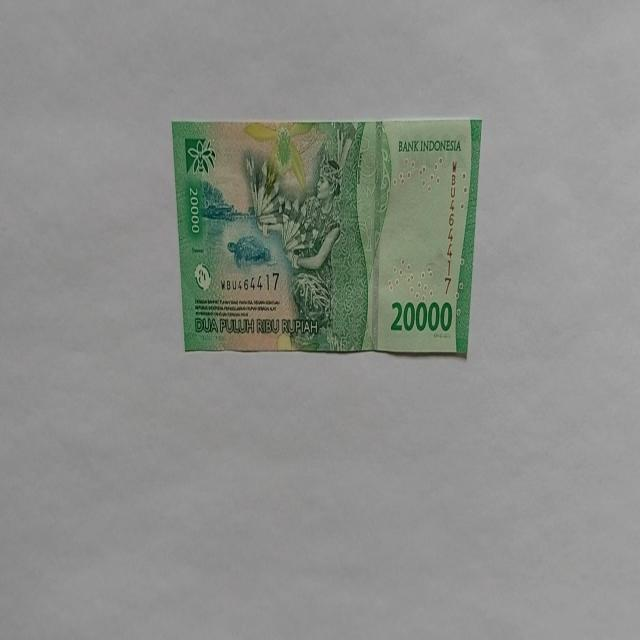dua puluh ribu rupiah: (171, 116, 482, 358)
